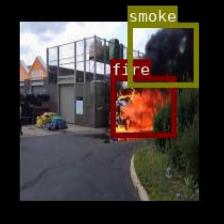fire: (110, 75, 175, 137)
smoke: (127, 22, 198, 86)
